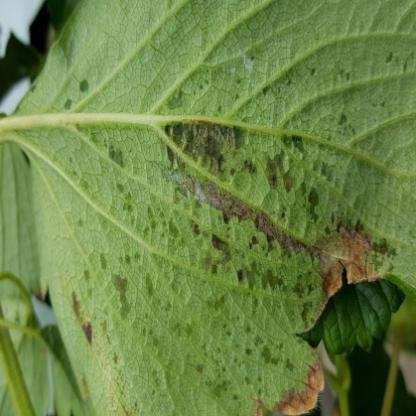Strawberry_Angular_LeafSpot: (27, 41, 415, 416)
